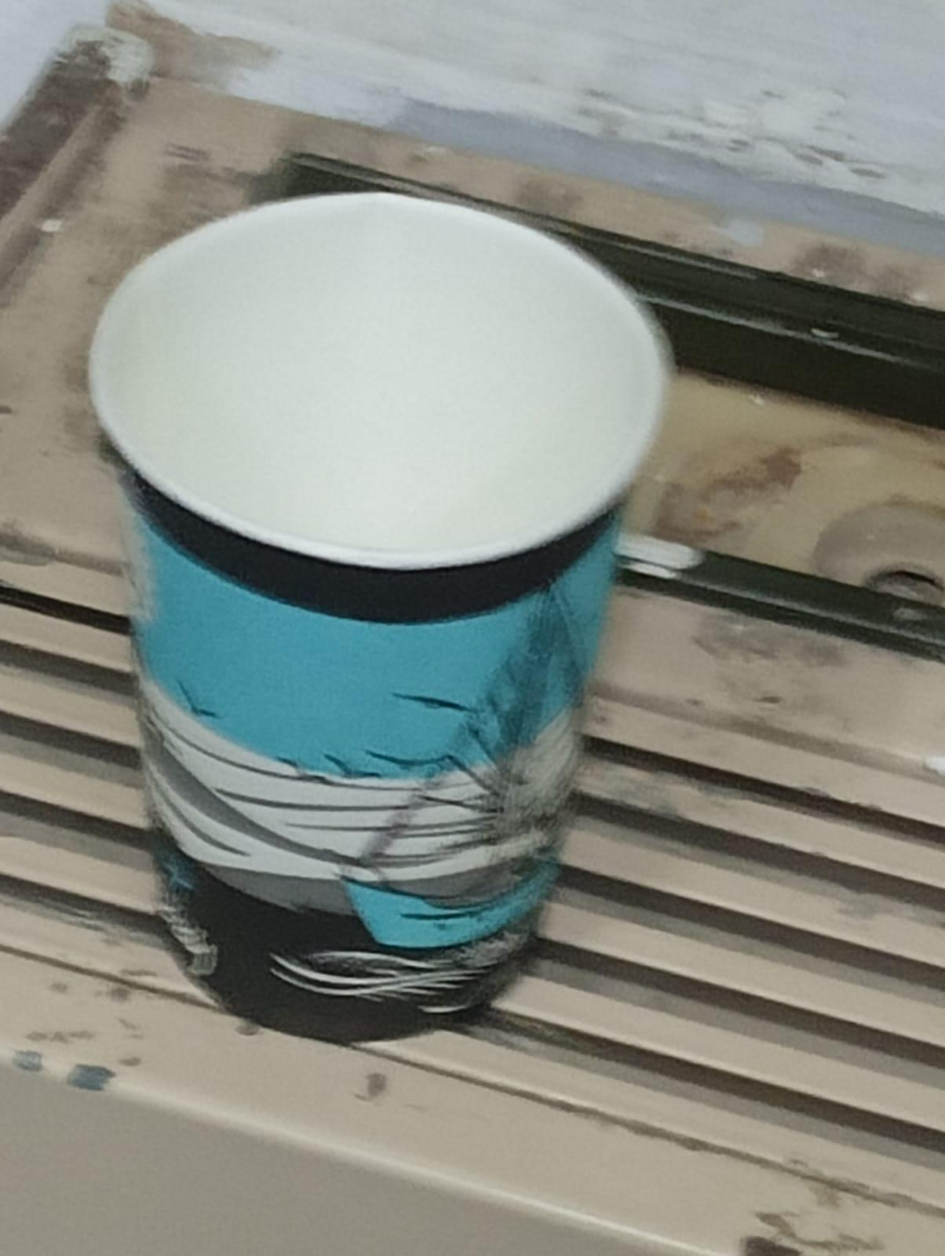cup: (90, 194, 667, 1038), (112, 220, 633, 555)
